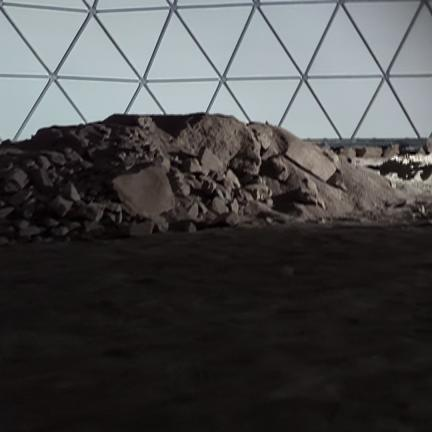Rock: (113, 166, 174, 218), (285, 141, 336, 181), (198, 147, 223, 173), (49, 194, 73, 218), (169, 172, 190, 197), (30, 169, 53, 191), (6, 169, 28, 190), (130, 220, 154, 236), (10, 189, 32, 206), (62, 183, 80, 202), (170, 220, 196, 232), (154, 154, 170, 173), (182, 158, 202, 173), (226, 168, 241, 188), (211, 197, 228, 214), (356, 147, 382, 158), (46, 152, 65, 165), (154, 216, 169, 232), (0, 206, 14, 223), (383, 144, 399, 157), (241, 190, 256, 202), (188, 202, 198, 219), (38, 156, 51, 169), (52, 226, 68, 236), (43, 218, 59, 228), (424, 138, 432, 154), (229, 199, 238, 213), (16, 220, 29, 229), (22, 210, 33, 220), (266, 217, 272, 224)
